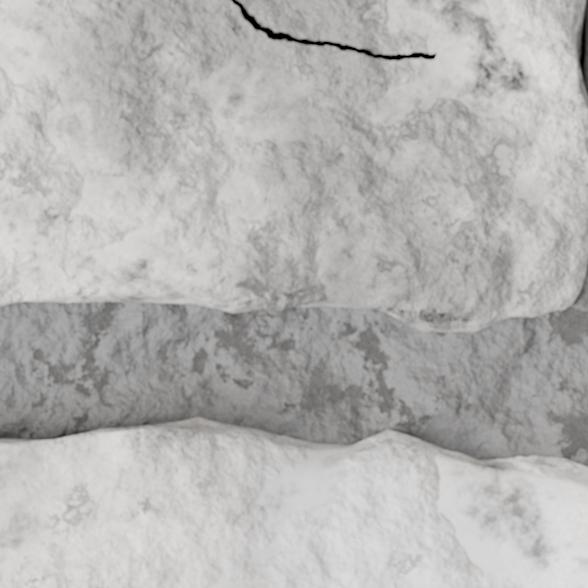brick: (0, 0, 587, 333), (0, 418, 587, 587)
crack: (575, 2, 587, 82)
